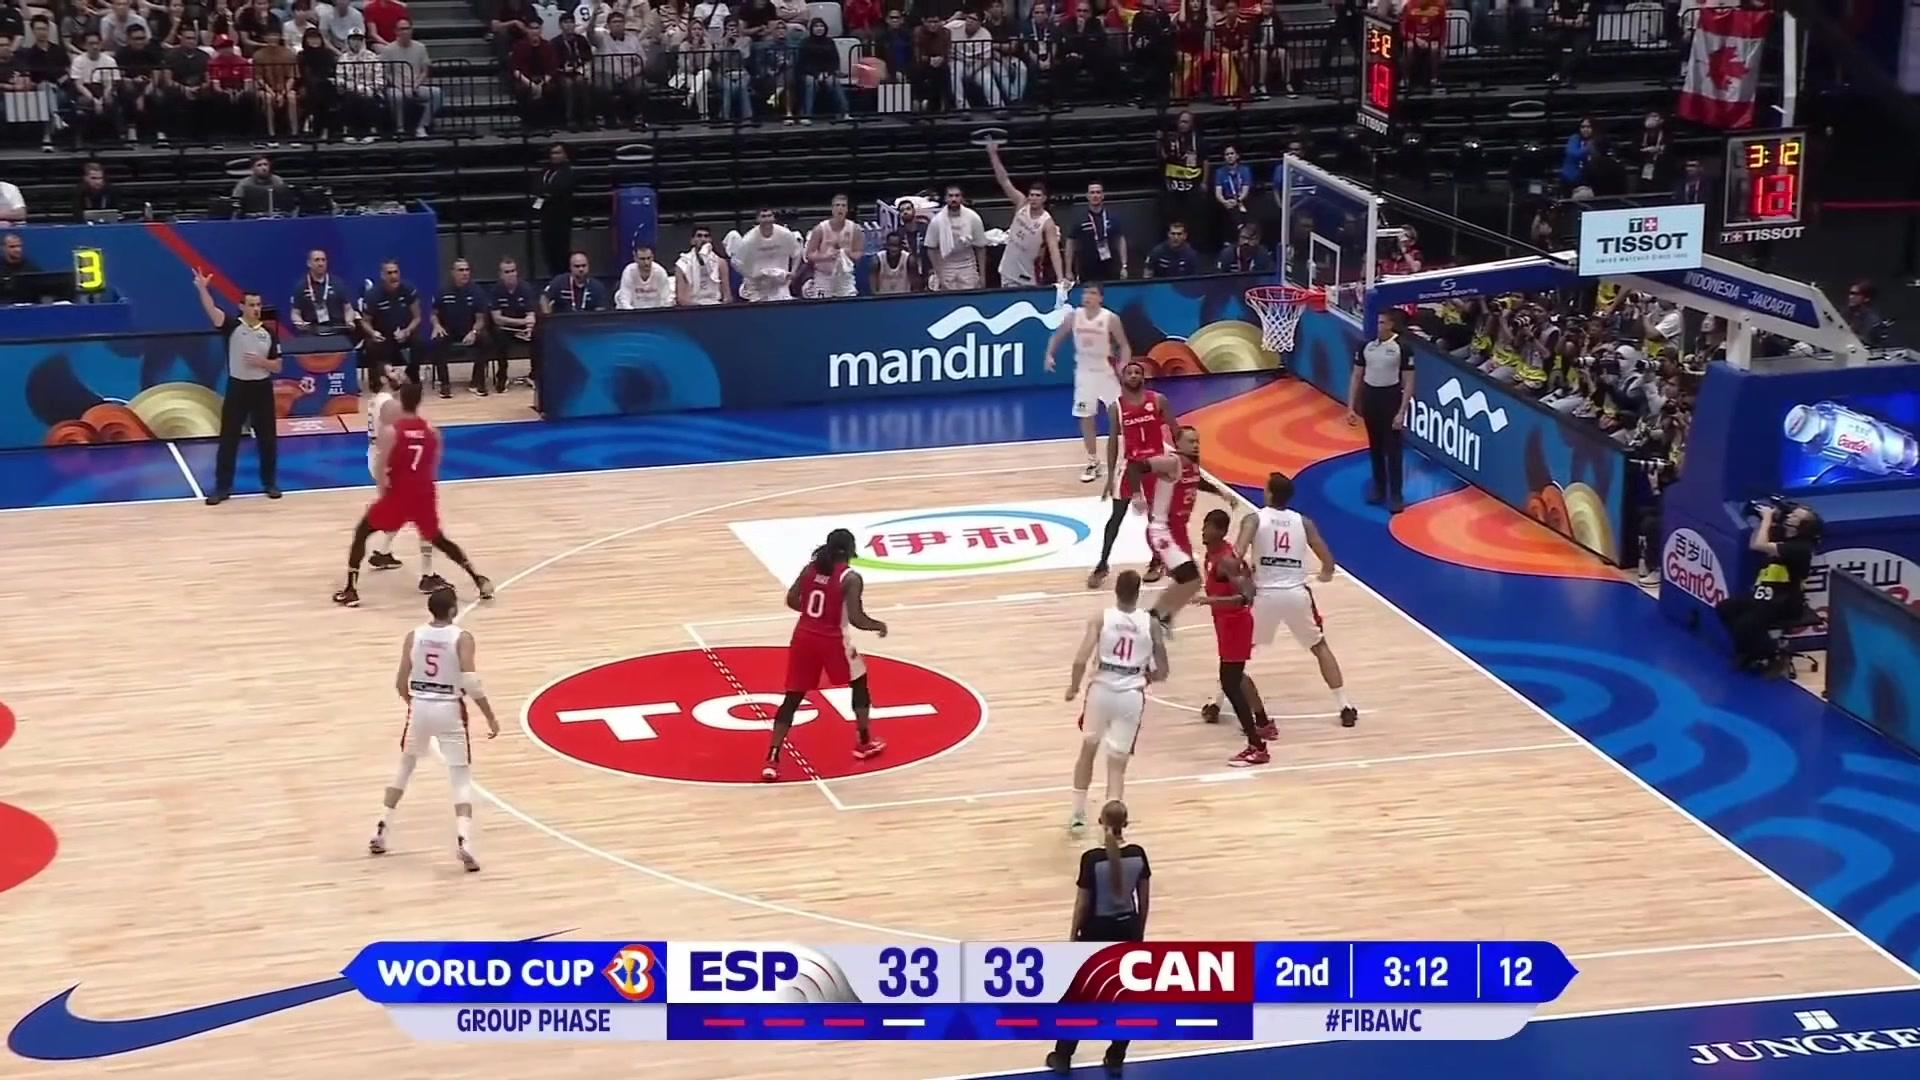foul: (322, 347, 513, 613)
